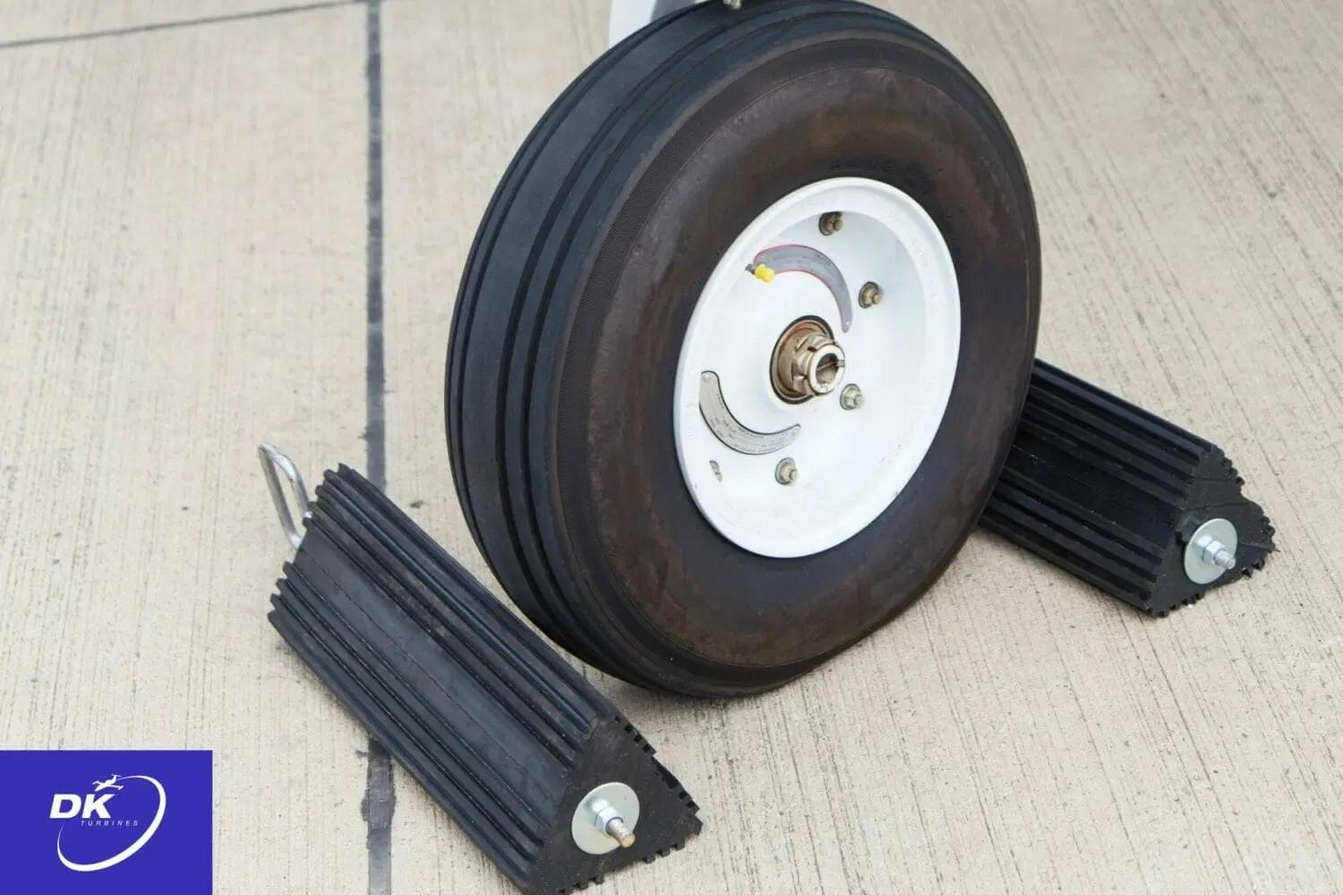chock: (262, 456, 706, 895), (894, 346, 1283, 623)
wheel: (440, 4, 1043, 693)
